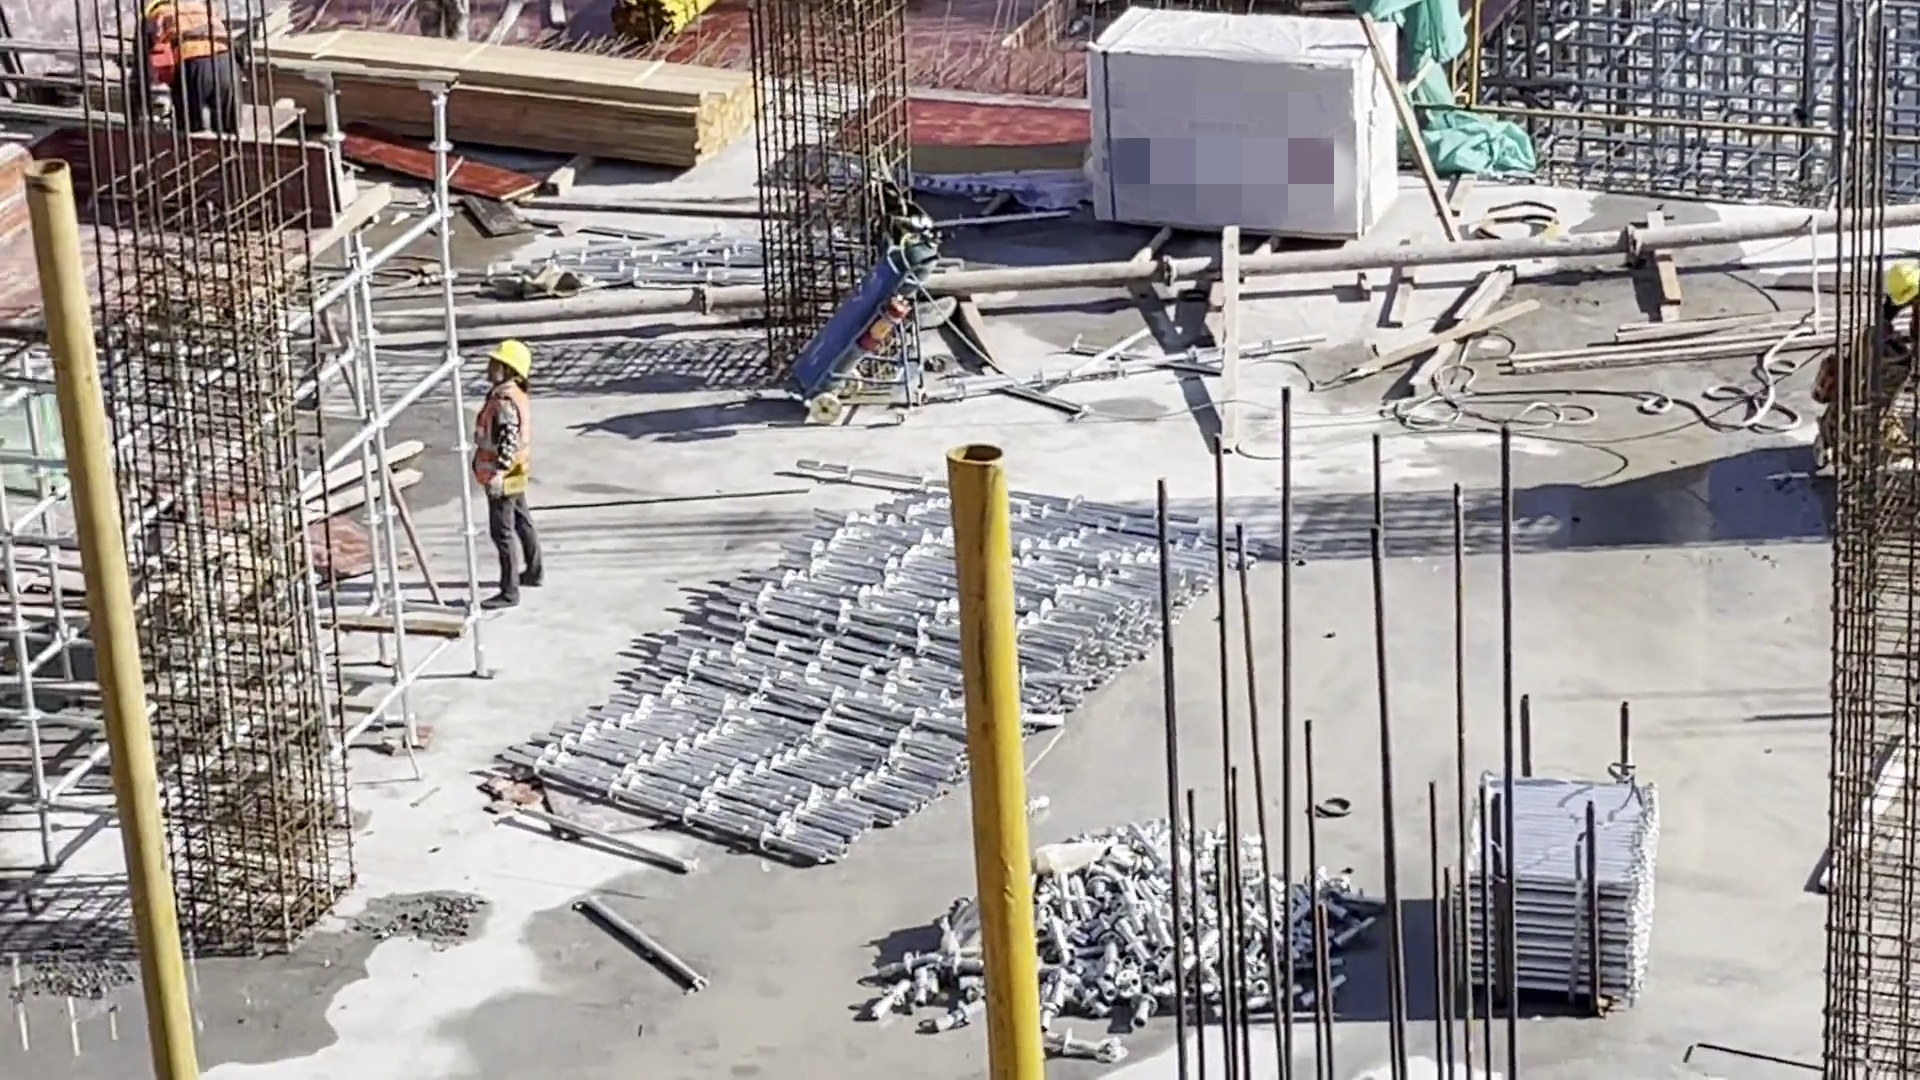helmet: (491, 338, 532, 372)
person: (481, 339, 548, 611), (128, 4, 238, 139)
scaffold: (500, 452, 1306, 865), (1462, 768, 1657, 1016)
vest: (143, 6, 228, 71), (480, 386, 529, 488)
wood: (258, 23, 765, 165)
